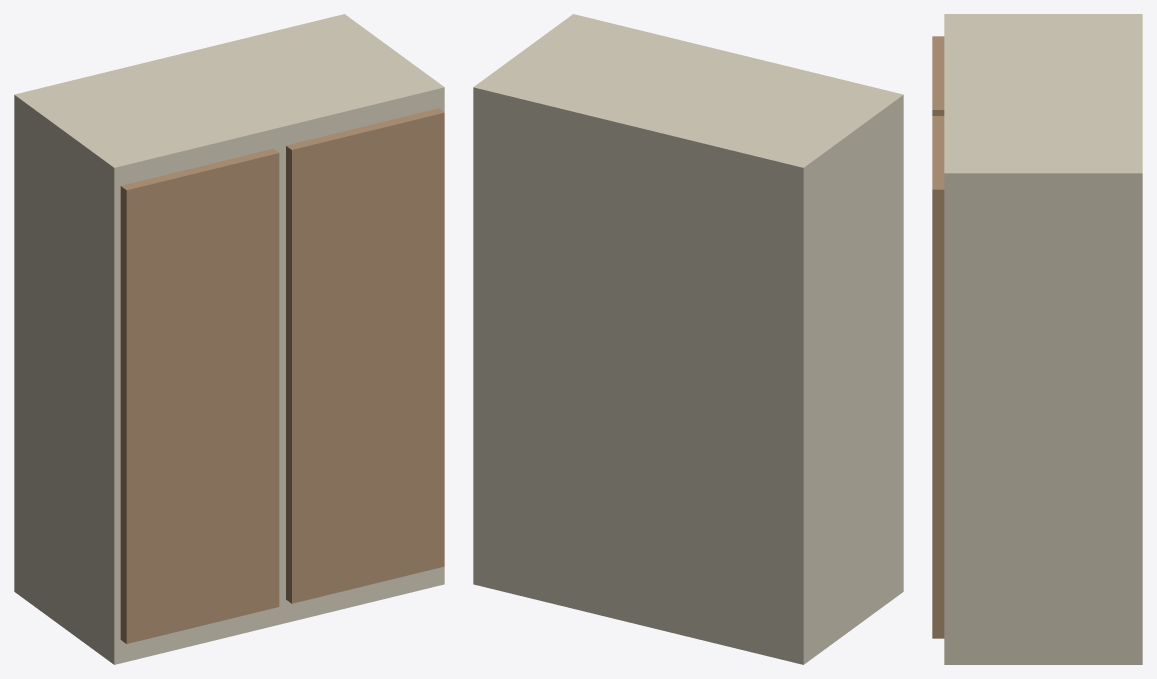
The model's file is cabinet_02.glb.
The picture shows the model from 3 angles, left to right: view 1: azimuth 30°, elevation 25°; view 2: azimuth 150°, elevation 25°; view 3: azimuth 270°, elevation 25°; orthographic projection.
Visible parts, largest first — view 1: body, doorL, doorR; view 2: body; view 3: body, doorR, doorL.
Part boxes in pixels (x1=…): body: x1=14, y1=14, x2=444, y2=664; doorL: x1=120, y1=148, x2=279, y2=643; doorR: x1=286, y1=108, x2=444, y2=603; body: x1=473, y1=14, x2=903, y2=664; body: x1=944, y1=14, x2=1142, y2=664; doorR: x1=932, y1=116, x2=944, y2=638; doorL: x1=932, y1=36, x2=944, y2=115.
Size of the model in its own units: 0.8 by 1.15 by 0.4455.
